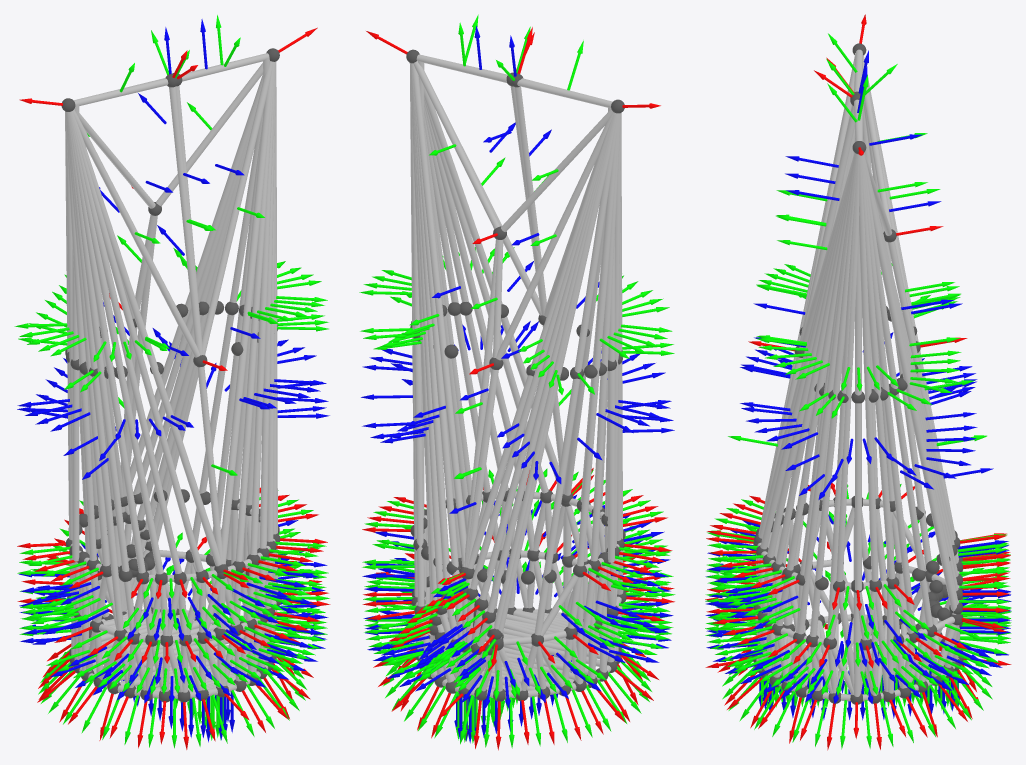
File: t2f_toothpaste.gltf
3 renders of one model, left to right at view 1: azimuth 30°, elevation 25°; view 2: azimuth 150°, elevation 25°; view 3: azimuth 270°, elevation 25°, orthographic. The views are drawn at different scales.
Size of the model in its own units: 0.4871 by 1.05 by 0.447.
